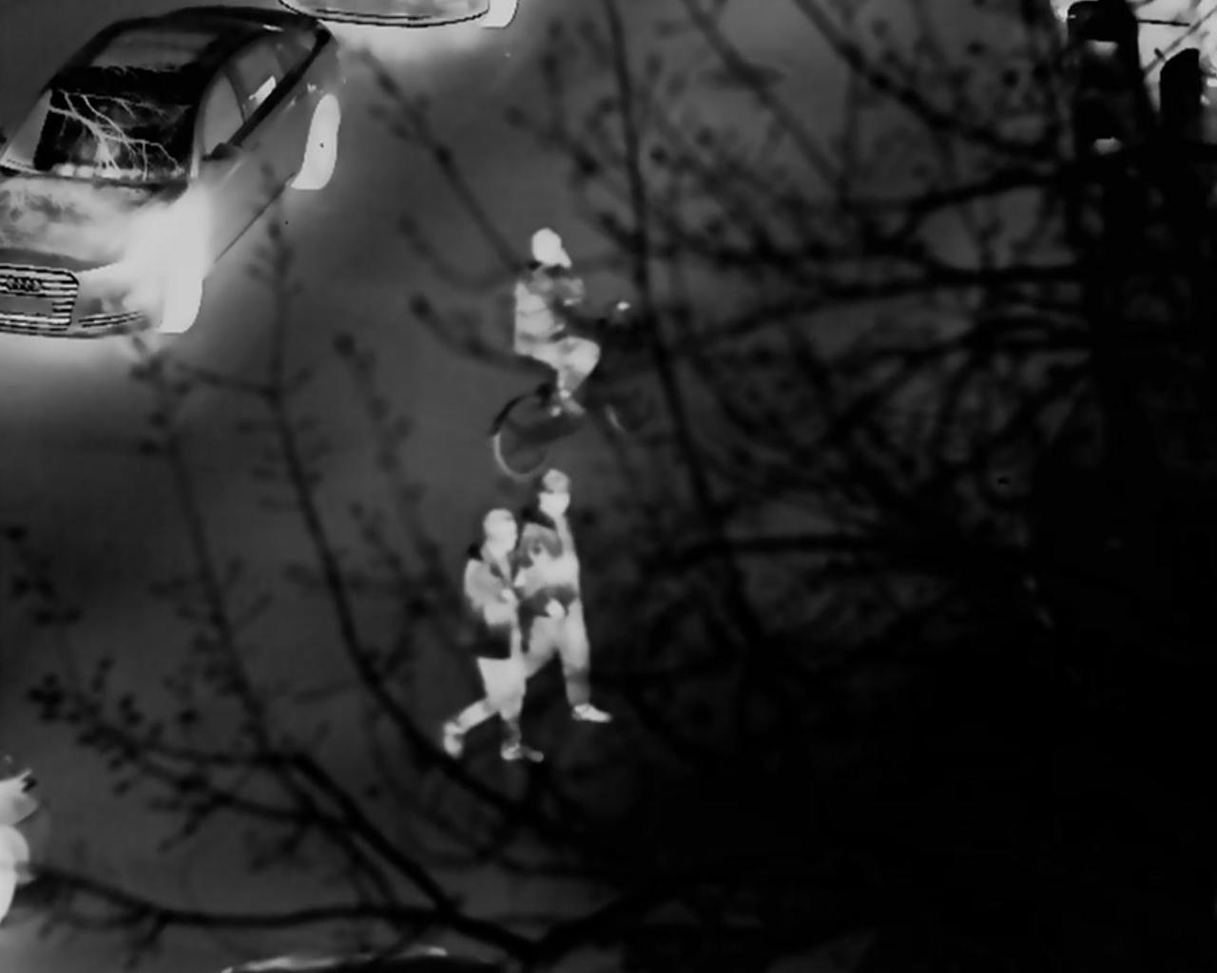person: (519, 476, 621, 735), (447, 505, 545, 773), (513, 236, 621, 425)
